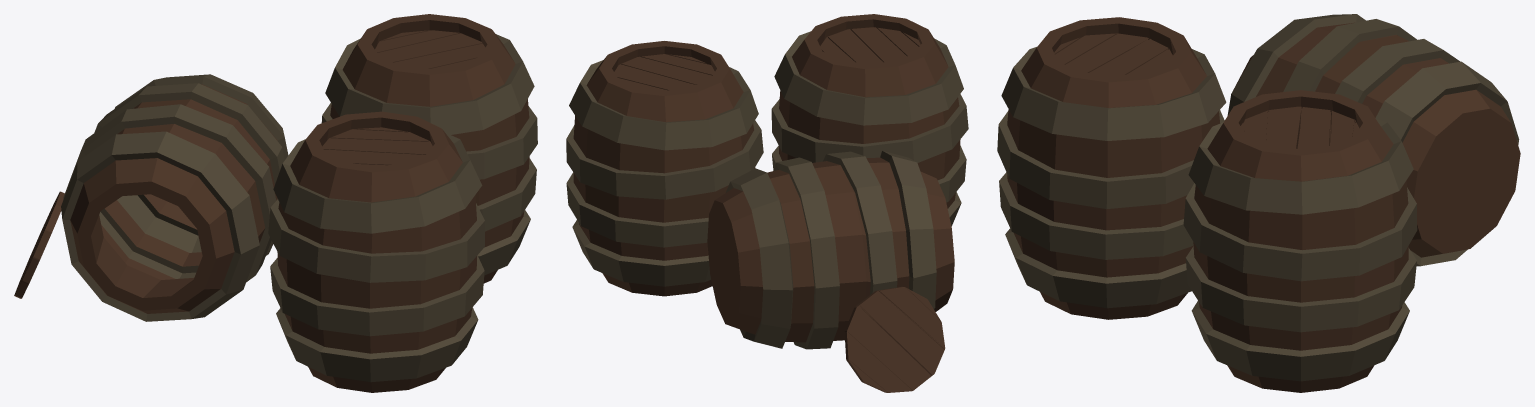
Rendered from Barris.fbx.
The picture shows the model from 3 angles, left to right: view 1: azimuth 30°, elevation 25°; view 2: azimuth 150°, elevation 25°; view 3: azimuth 270°, elevation 25°; orthographic projection. The views are drawn at different scales.
Visible parts, largest first — view 1: Barris; view 2: Barris; view 3: Barris.
Part boxes in pixels (x1,y1,x2,y2): Barris: (14,14,537,392); Barris: (566,14,968,392); Barris: (997,14,1520,392).
Size of the model in its own units: 279 by 131 by 260.
